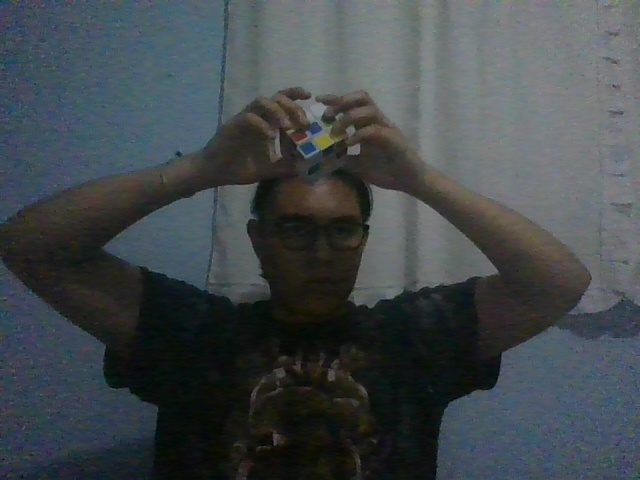rubik: (278, 101, 348, 187)
